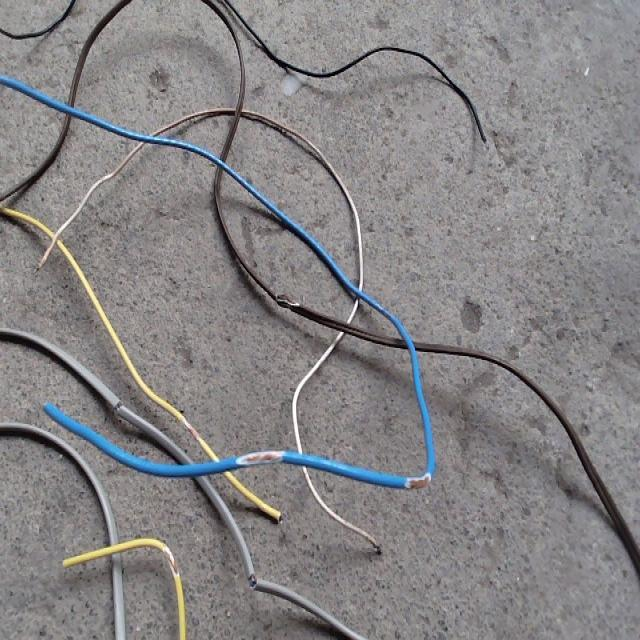-: (234, 446, 285, 466), (160, 540, 179, 577), (271, 291, 301, 312), (401, 471, 431, 489), (246, 570, 259, 590), (112, 396, 123, 415)
